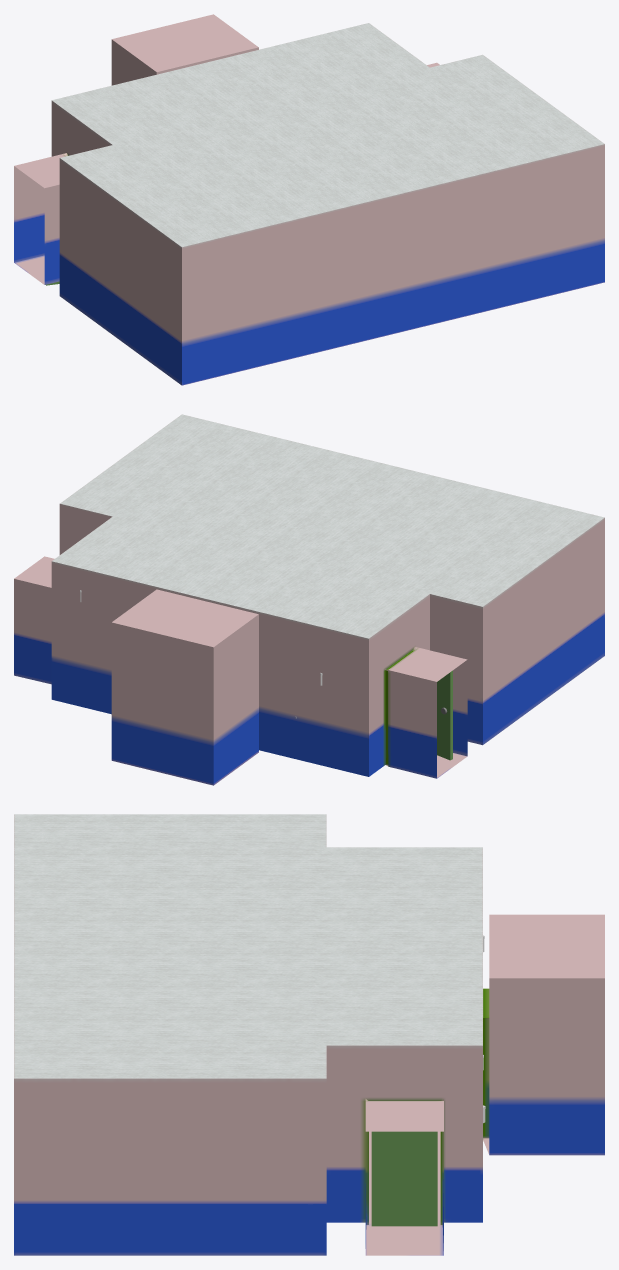
File: StartScene.fbx
3 renders of one model, top to bottom at view 1: azimuth 30°, elevation 25°; view 2: azimuth 150°, elevation 25°; view 3: azimuth 270°, elevation 25°, orthographic. The views are drawn at different scales.
Visible parts, largest first — view 1: Plane; view 2: Plane, Door.001; view 3: Plane, Door.
Part boxes in pixels (x1,y1,x2,y2): Plane: [14, 14, 604, 385]; Plane: [14, 414, 604, 785]; Door.001: [437, 670, 452, 760]; Plane: [14, 814, 604, 1255]; Door: [371, 1131, 437, 1226].
Size of the model in its own units: 800 by 263 by 756.
7 materials, 4 textured.
